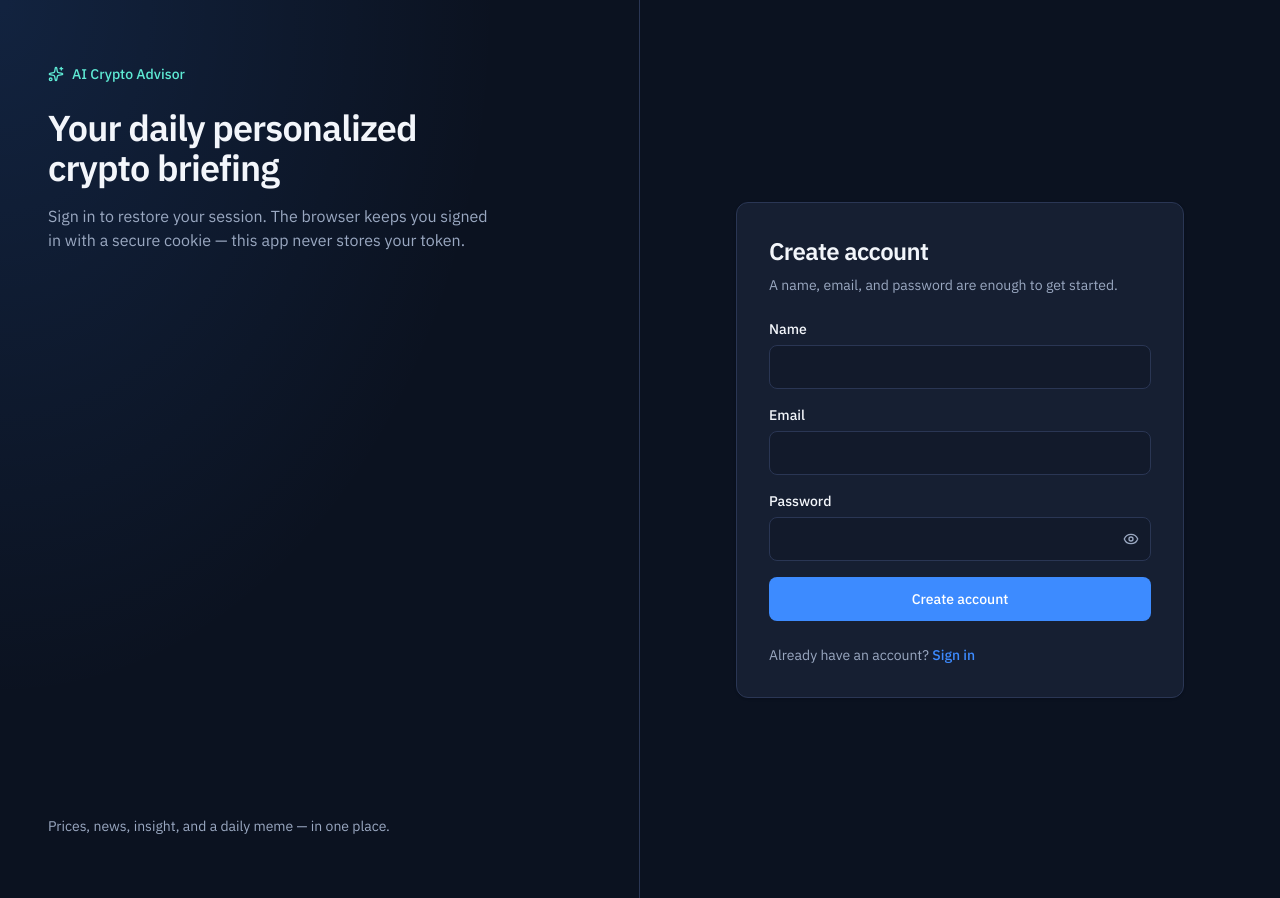
signup › logs in after a successful signup
Check: the heading "Create account" is shown, box [769,235,928,267]
Step 1. Type "Ada" into the field labelled "Name" → (960, 367), box [769,345,1151,389]
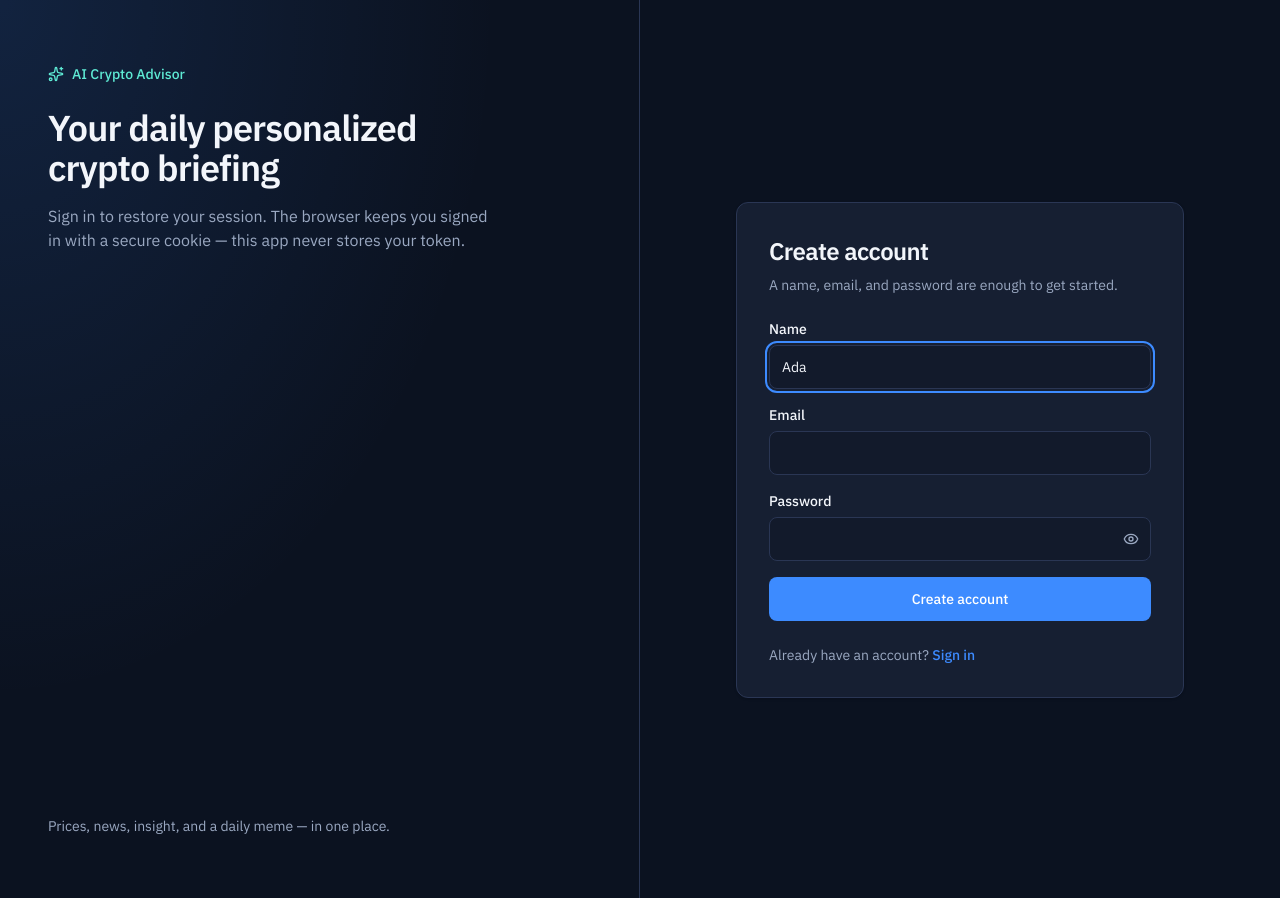
Step 2. Type "ada@example.com" into the field labelled "Email" → (960, 453), box [769,431,1151,475]
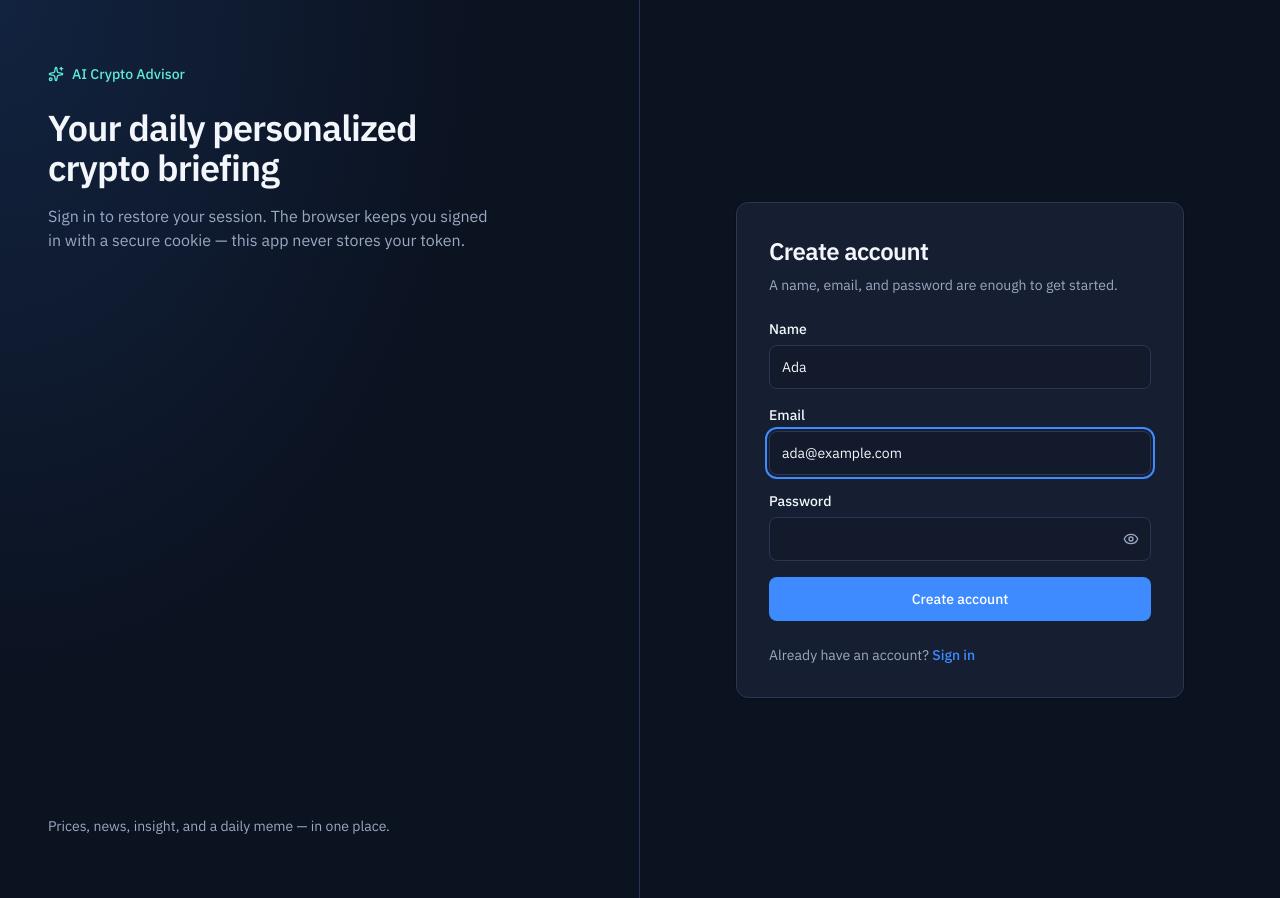
Step 3. Type "Password1" into the password field labelled "Password" → (960, 539), box [769,517,1151,561]
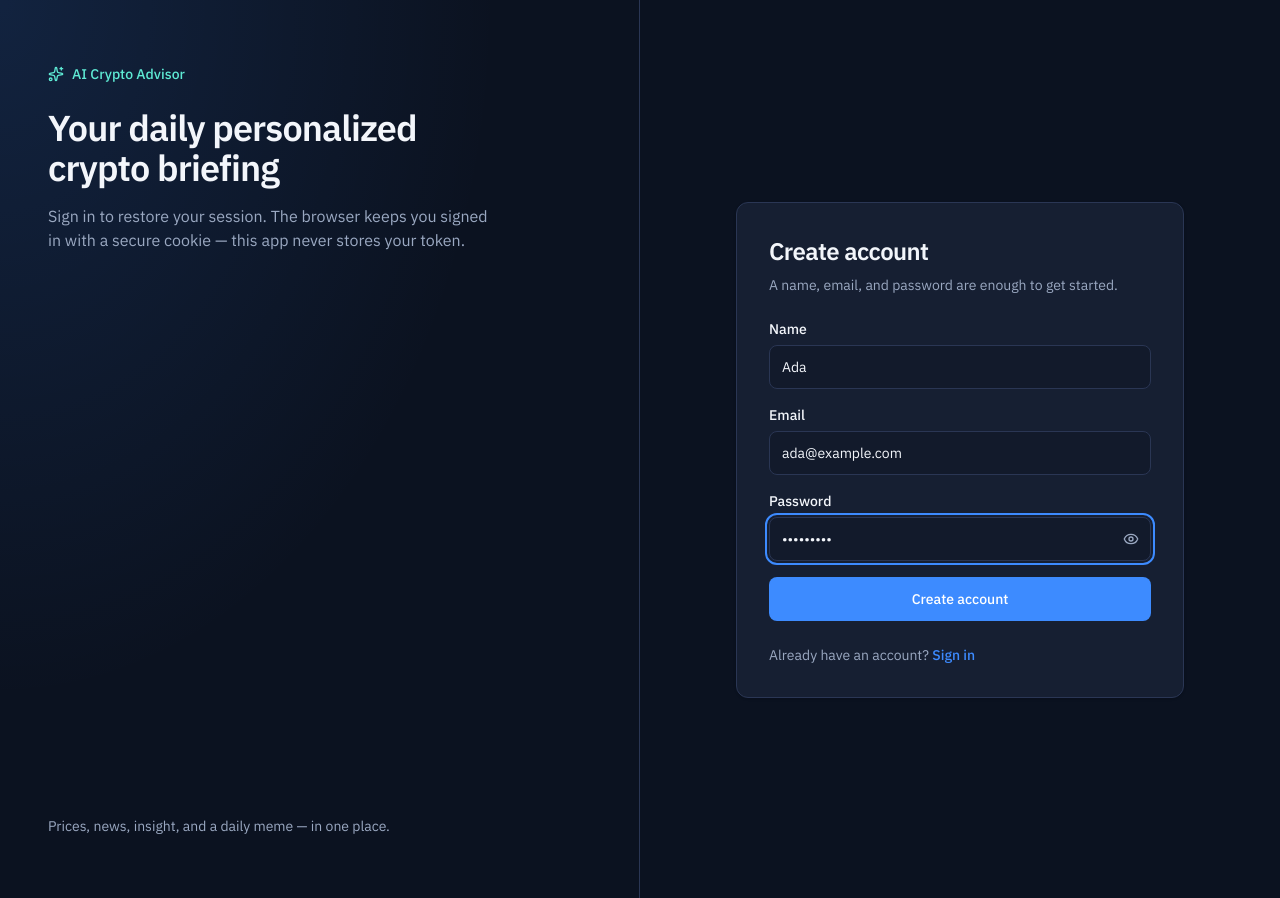
Step 4. Click the button "Create account" → (960, 599), box [769,577,1151,621]
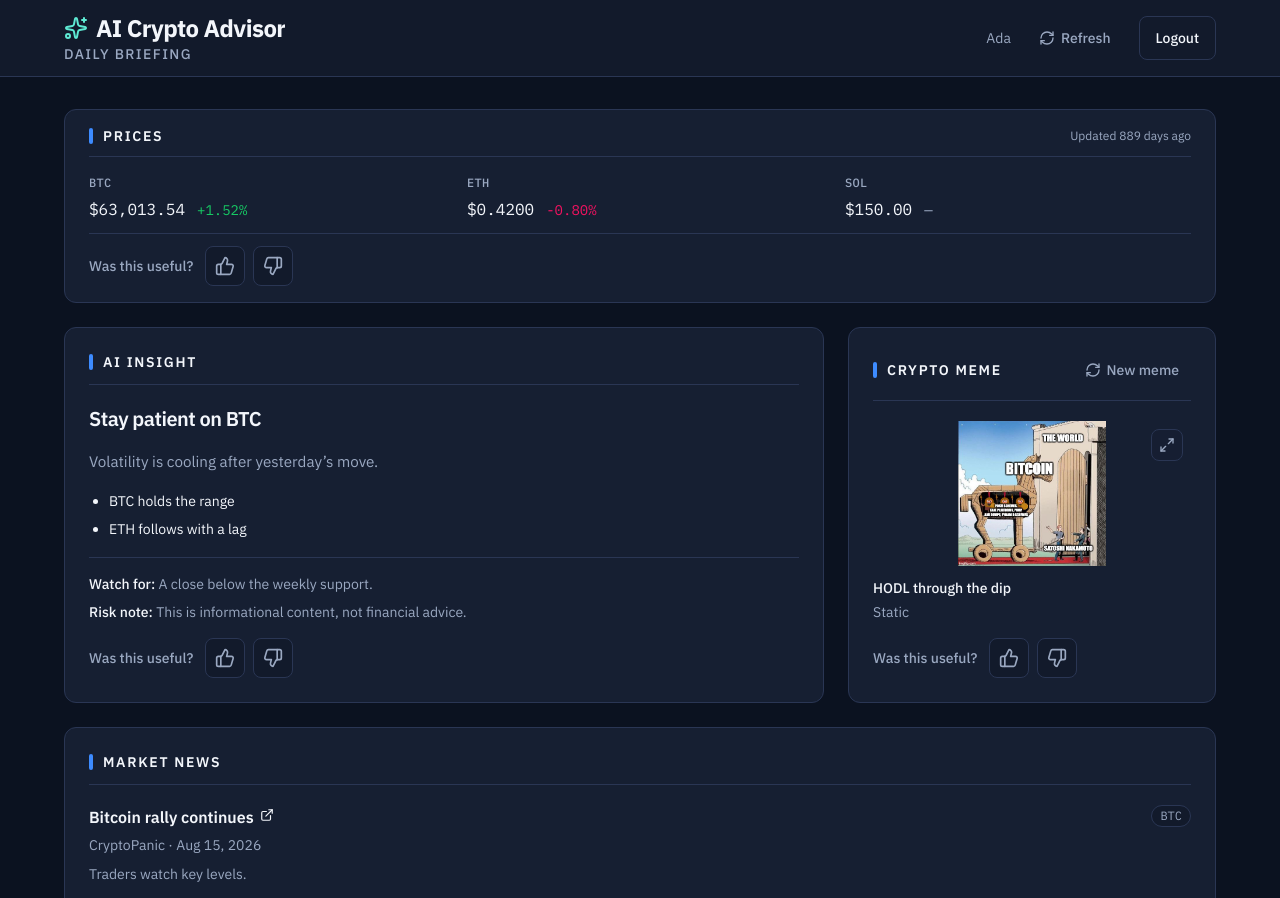
Check: the heading "Daily briefing" is shown, box [64,45,192,63]
